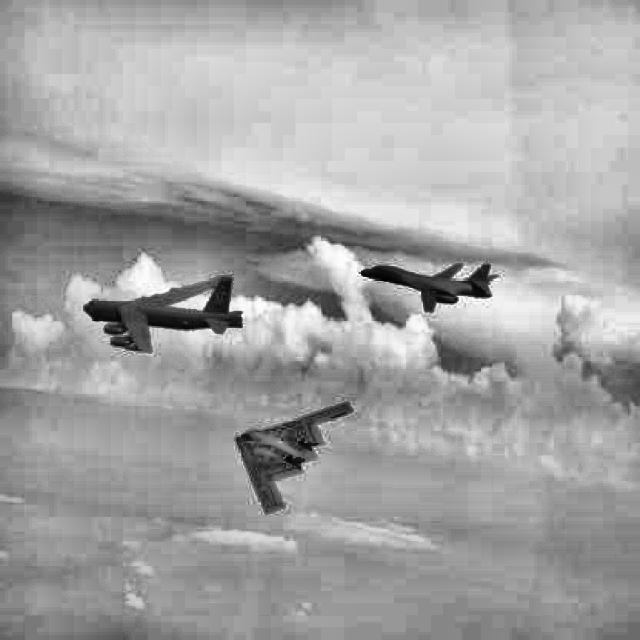B1: (359, 263, 499, 312)
B2: (234, 400, 354, 514)
B52: (84, 276, 244, 352)
